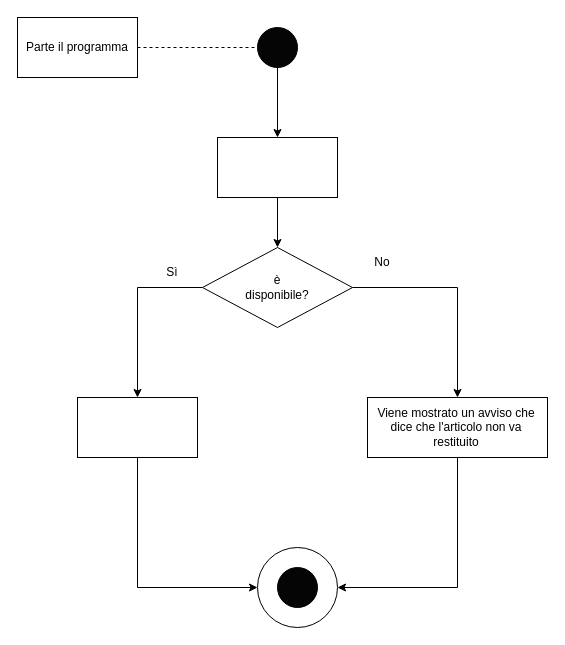
The diagram is 565 pixels wide and 645 high, and some of its shapes have lost their labels. Each missing label, with the centre of its shape:
"L'articolo viene restituito" belongs at pixel 137 427.
"Utente cerca un articolo da restituire sul catalogo" belongs at pixel 277 167.
